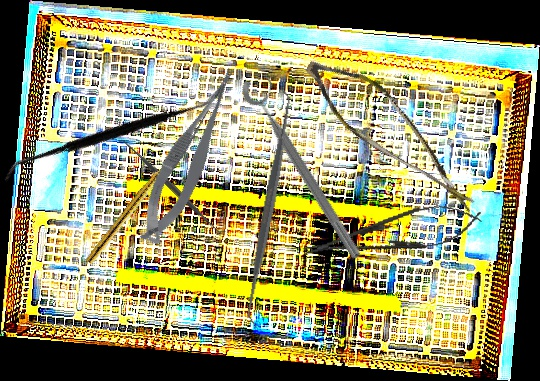Fixation Ring: (236, 68, 377, 264)
Handpiece: (85, 158, 173, 267)
Micro Scissor: (284, 48, 505, 215), (122, 62, 260, 251)
Needle Holder: (298, 195, 486, 272)
Spatula Surgical: (1, 19, 223, 253), (233, 89, 305, 329), (116, 132, 228, 241)
